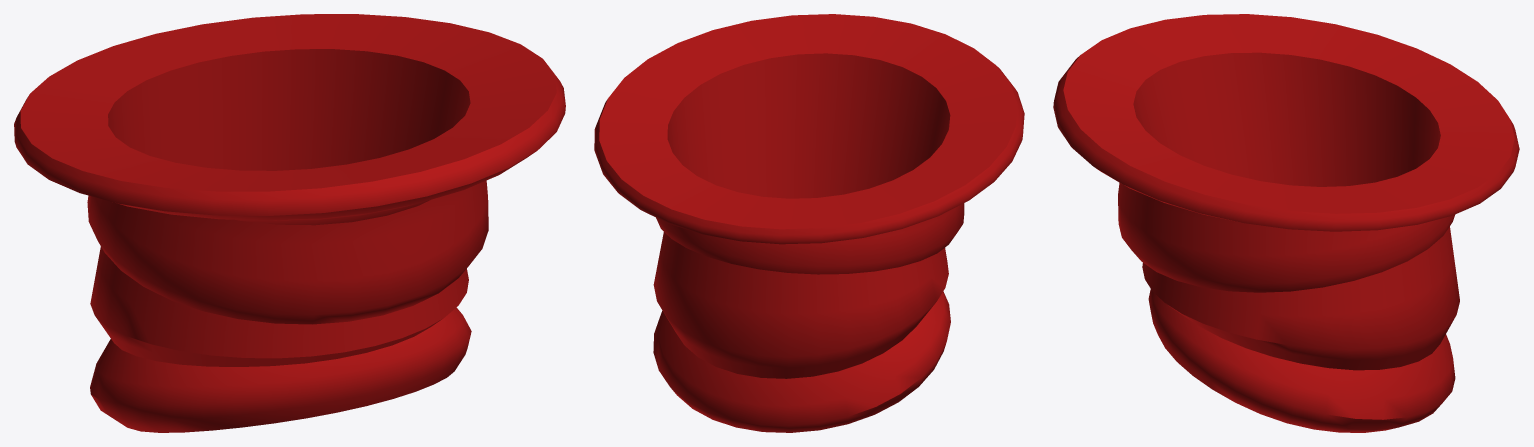
Rendered from Pote_02.fbx.
The picture shows the model from 3 angles, left to right: view 1: azimuth 30°, elevation 25°; view 2: azimuth 150°, elevation 25°; view 3: azimuth 270°, elevation 25°; orthographic projection. The views are drawn at different scales.
Visible parts, largest first — view 1: Pote_02; view 2: Pote_02; view 3: Pote_02.
Part boxes in pixels (box(x1,y1,x2,y2)): Pote_02: box(14, 14, 565, 432); Pote_02: box(594, 14, 1024, 432); Pote_02: box(1053, 14, 1519, 432).
Size of the model in its own units: 24.92 by 17.9 by 24.68.
